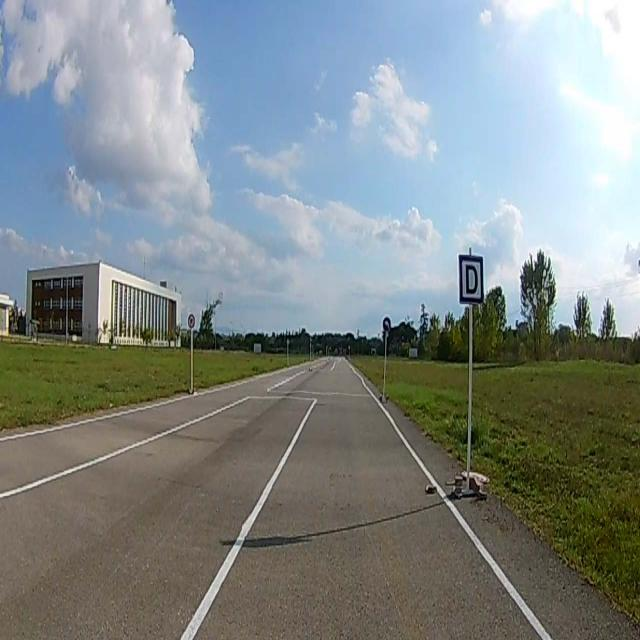durak: (460, 255, 484, 304)
sol: (383, 317, 390, 331)
